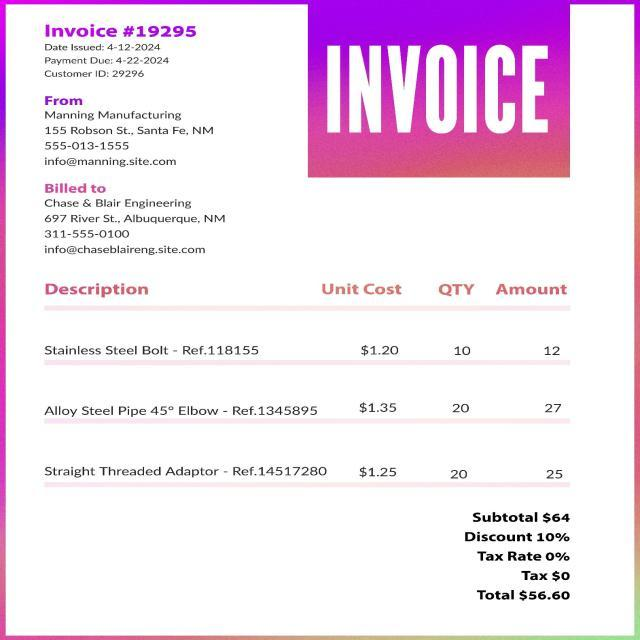ROI: (32, 278, 576, 490), (319, 32, 562, 152), (39, 183, 232, 259), (37, 92, 224, 170), (457, 508, 579, 604), (35, 24, 204, 83)
